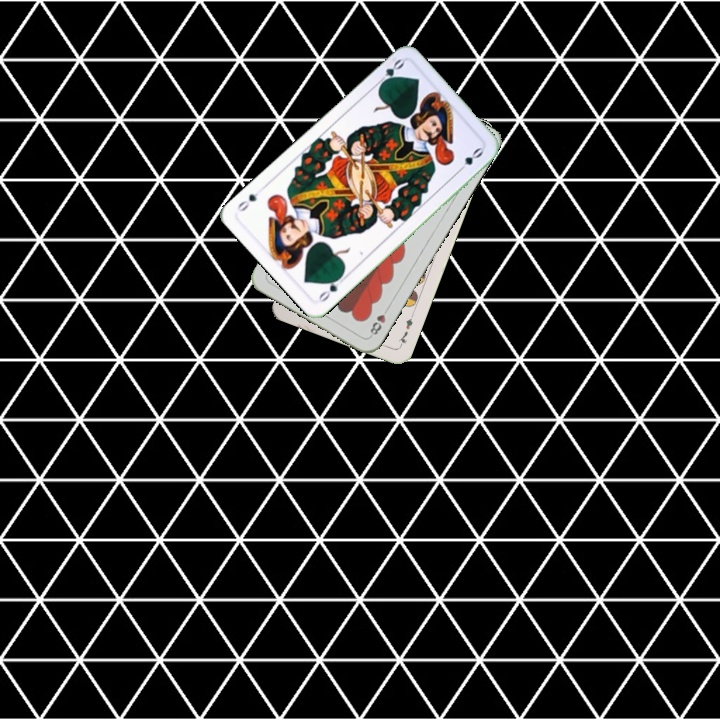E7: (394, 310, 416, 349)
GO: (372, 55, 407, 90), (314, 271, 348, 305)
H8: (366, 303, 392, 339)
